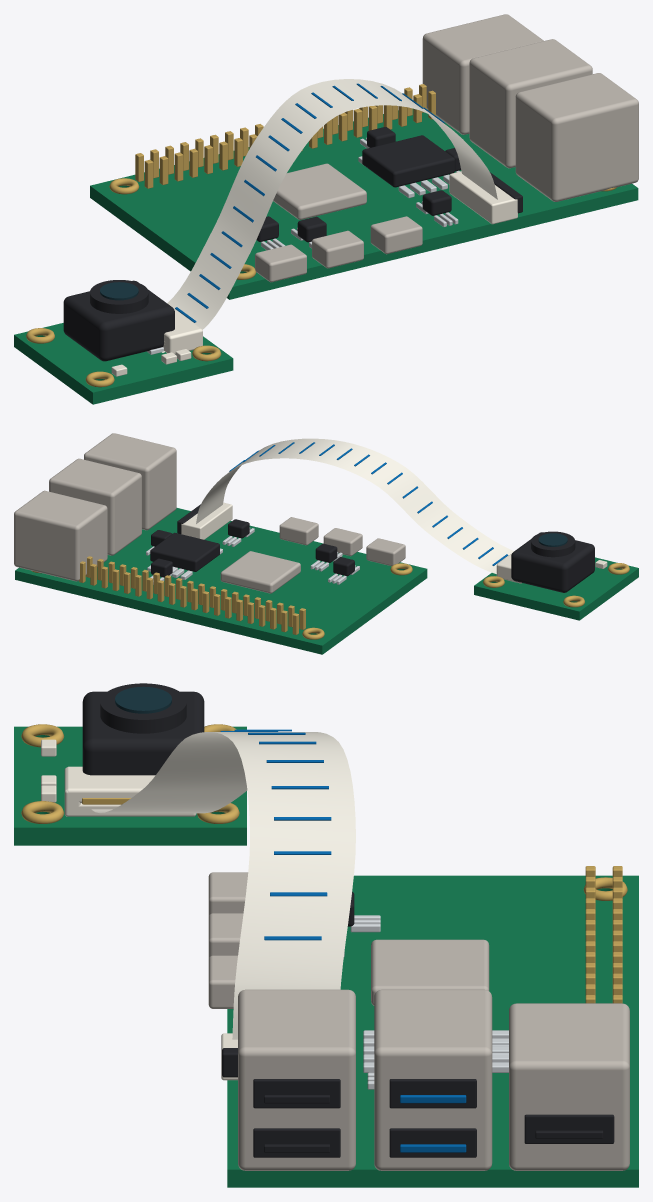
The model's file is sensors-37.glb.
3 renders of one model, top to bottom at view 1: azimuth 30°, elevation 25°; view 2: azimuth 150°, elevation 25°; view 3: azimuth 270°, elevation 25°, orthographic. The views are drawn at different scales.
Parts seen in each view (by area): view 1: host, ports, ribbon, camera-board, focus, csi, lens, camera-socket; view 2: host, ports, ribbon, camera-board, focus, csi, lens, camera-socket; view 3: ports, host, ribbon, camera-board, focus, lens, camera-socket, csi.
Part boxes in pixels (x1,y1,x2,y2): host: (90,84,638,299); ports: (255,14,638,282); ribbon: (161,79,497,352); camera-board: (14,323,233,404); focus: (63,280,174,361); csi: (449,171,522,224); lens: (90,280,148,313); camera-socket: (147,309,202,354); host: (15,508,427,654); ports: (14,433,405,581); ribbon: (196,438,513,573); camera-board: (474,557,638,620); focus: (511,532,594,592); csi: (177,502,232,539); lens: (531,531,575,557); camera-socket: (496,553,521,583); ports: (208,872,629,1170); host: (227,866,638,1187); ribbon: (91,729,355,1039); camera-board: (14,724,246,845); focus: (82,691,204,775); lens: (100,683,186,733); camera-socket: (64,766,196,816); csi: (221,1033,237,1080).
Bounding box in the file's own units: 3.53 × 0.853 × 2.06.
